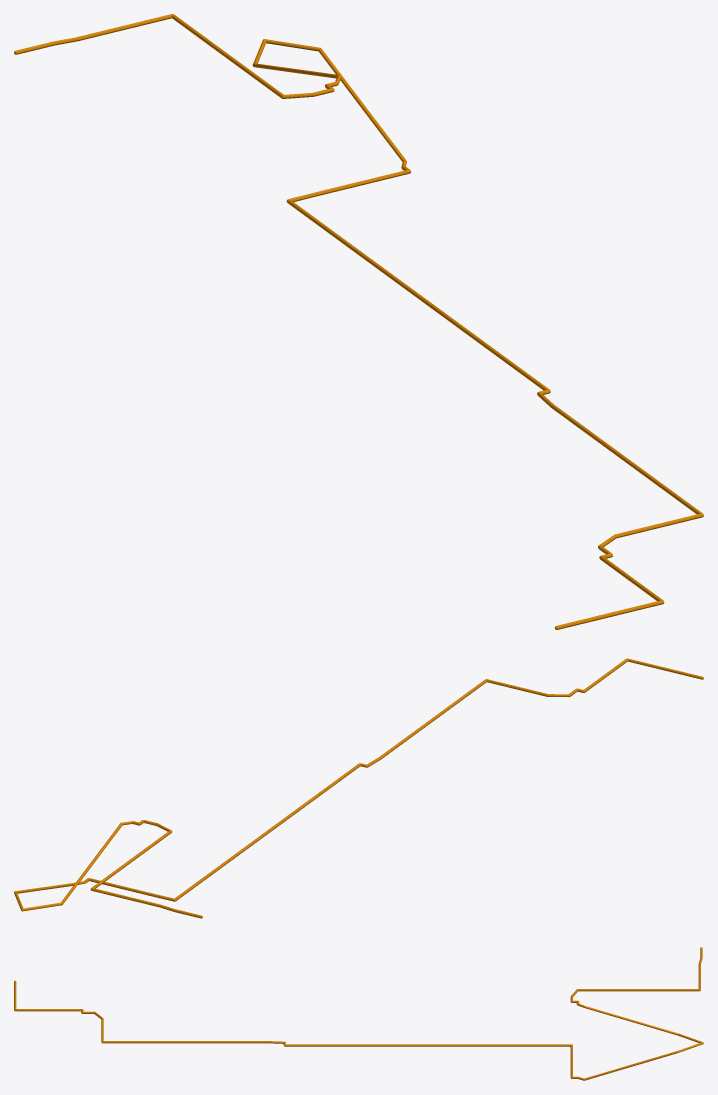
3 views of the same model, one above another, from view 1: azimuth 30°, elevation 25°; view 2: azimuth 150°, elevation 25°; view 3: azimuth 270°, elevation 25° (orthographic). The views are drawn at different scales.
Size of the model in its own units: 1918 by 520 by 5653.
